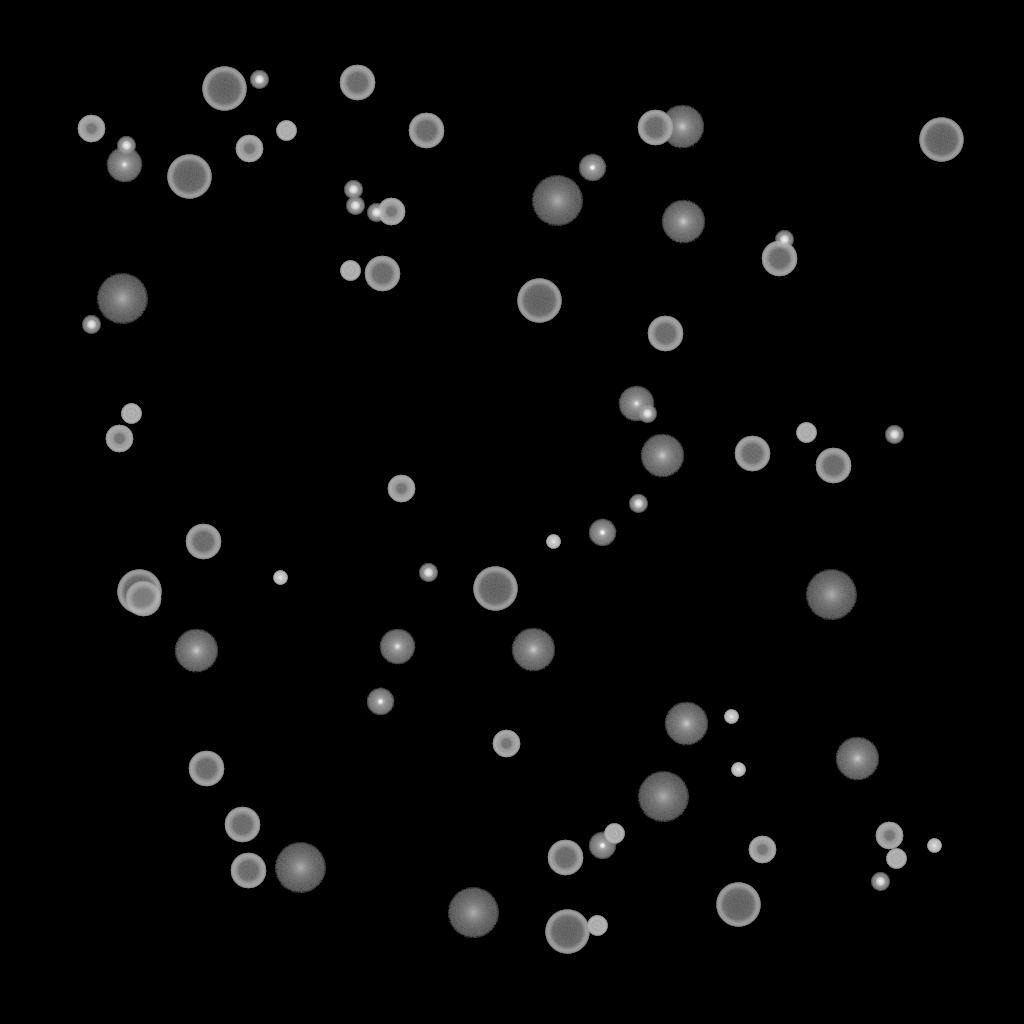depth:-10: (588, 519, 616, 547), (588, 832, 616, 860), (578, 154, 606, 182), (366, 688, 394, 716)
depth:-20: (250, 71, 268, 89), (629, 495, 647, 513), (117, 137, 135, 155), (346, 197, 364, 215), (885, 426, 903, 444), (775, 231, 793, 249), (638, 405, 656, 423), (82, 316, 100, 334), (871, 873, 889, 891), (344, 181, 362, 199), (419, 564, 437, 582), (367, 204, 385, 222)
depth:-30: (724, 710, 738, 724), (731, 763, 745, 777), (273, 571, 287, 585), (927, 839, 941, 853), (546, 535, 560, 549)
depth:-40: (796, 423, 816, 443), (587, 916, 607, 936), (121, 404, 141, 424), (340, 261, 360, 281), (276, 121, 296, 141), (604, 824, 624, 844), (886, 849, 906, 869)
depth:-50: (387, 475, 415, 503), (875, 822, 903, 850), (235, 135, 263, 163), (77, 115, 105, 143), (105, 425, 133, 453), (492, 730, 520, 758), (377, 198, 405, 226), (748, 836, 776, 864)
depth:-60: (364, 256, 400, 292), (815, 448, 851, 484), (734, 436, 770, 472), (185, 524, 221, 560), (547, 840, 583, 876), (230, 853, 266, 889), (761, 241, 797, 277), (408, 113, 444, 149), (647, 316, 683, 352), (125, 581, 161, 617), (188, 751, 224, 787), (224, 807, 260, 843), (339, 65, 375, 101), (637, 110, 673, 146)
depth:-70: (167, 155, 211, 199), (545, 910, 589, 954), (117, 570, 161, 614), (716, 883, 760, 927), (473, 567, 517, 611), (919, 118, 963, 162), (517, 279, 561, 323), (202, 67, 246, 111)
depth:0: (618, 386, 654, 422), (106, 147, 142, 183), (379, 629, 415, 665)
depth:10: (835, 737, 879, 781), (174, 629, 218, 673), (664, 702, 708, 746), (640, 434, 684, 478), (511, 628, 555, 672), (661, 200, 705, 244), (660, 105, 704, 149)
depth:20: (805, 570, 857, 620), (96, 274, 148, 324), (274, 843, 326, 893), (531, 176, 583, 226), (447, 888, 499, 938), (637, 772, 689, 822)
